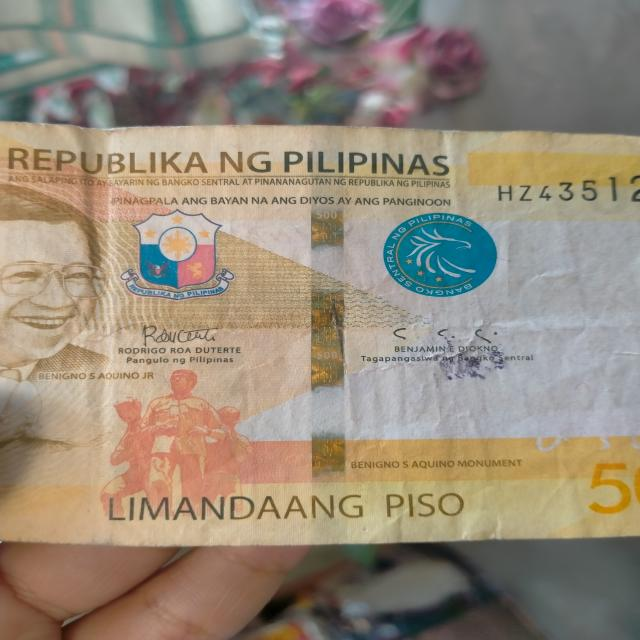security_thread: (300, 123, 355, 552)
serial_number: (484, 168, 640, 217)
